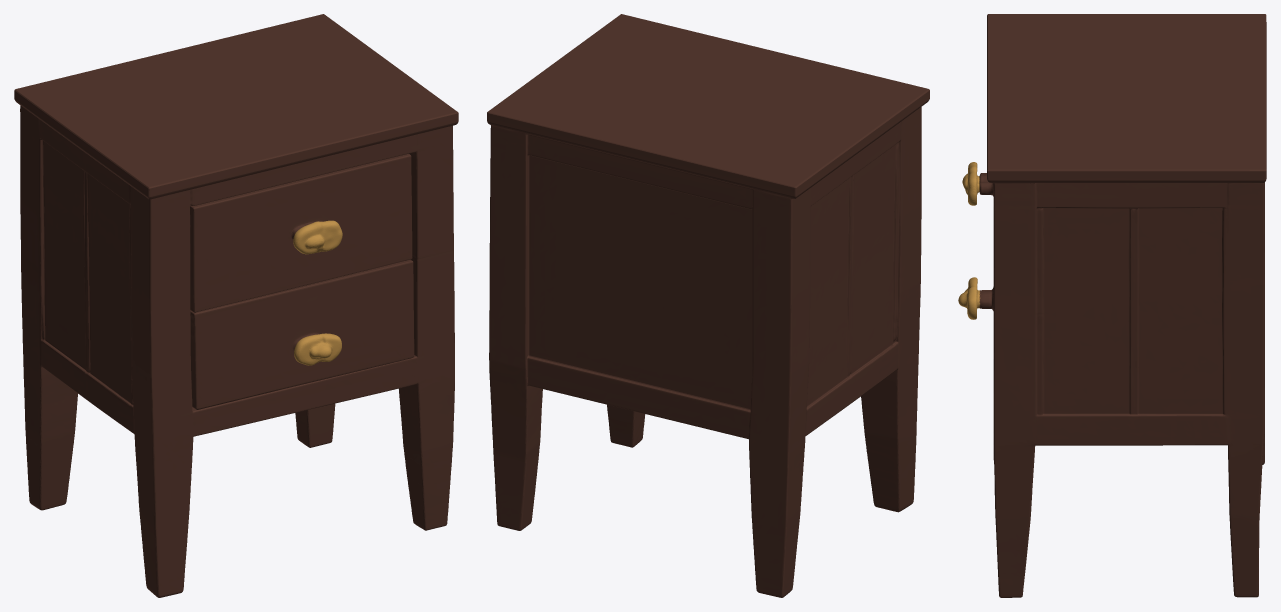
Rendered from nightstand_semantic.glb.
The picture shows the model from 3 angles, left to right: view 1: azimuth 30°, elevation 25°; view 2: azimuth 150°, elevation 25°; view 3: azimuth 270°, elevation 25°; orthographic projection. The views are drawn at different scales.
Parts seen in each view (by area): view 1: RoomOne_Nightstand; view 2: RoomOne_Nightstand; view 3: RoomOne_Nightstand.
Part boxes in pixels (x1,y1,x2,y2): RoomOne_Nightstand: (14,14,458,597); RoomOne_Nightstand: (487,14,929,597); RoomOne_Nightstand: (958,14,1266,597).
Size of the model in its own units: 1.48 by 1.9 by 1.23.
